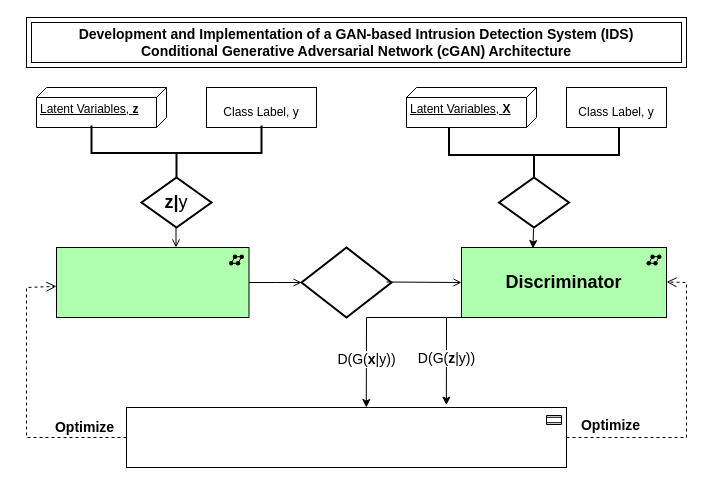
Image size: 714x485. Some labels were removed from this diagram. The shapes that lost their labels are listed below. From the top down, each one's centre as x and y in pixels, then its label:
[534,202]: X| y
[152,282]: Generator
[346,282]: G(z| y )
[346,437]: Loss Function
